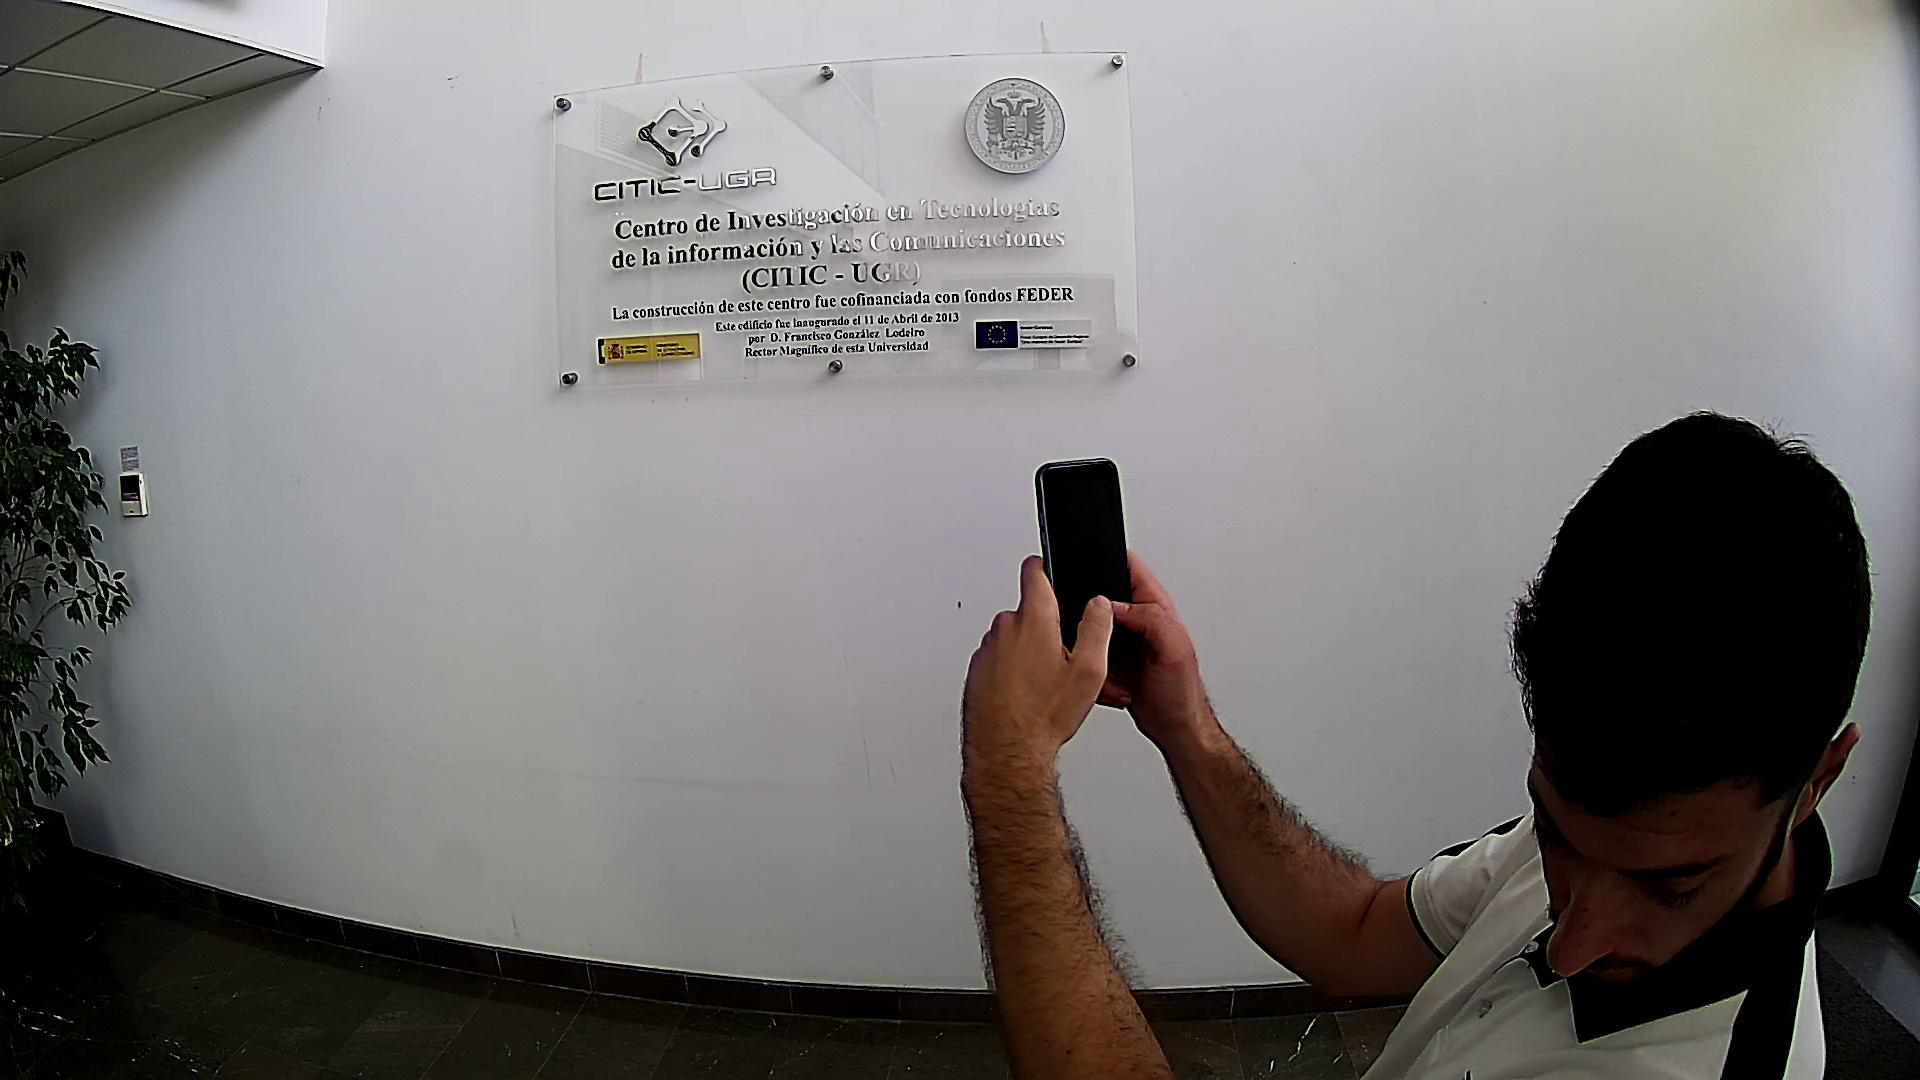smartphone: (1033, 455, 1138, 682)
